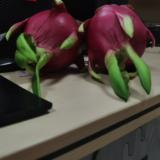pitaya: (84, 4, 153, 96), (14, 1, 84, 77)
